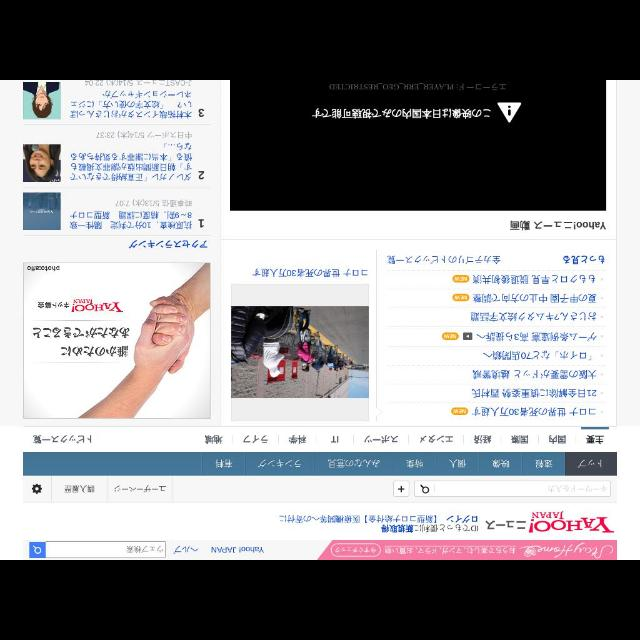button: (24, 474, 52, 502), (416, 482, 434, 496), (30, 542, 44, 556), (393, 482, 407, 496)
icon: (31, 482, 43, 496), (32, 544, 42, 554), (419, 484, 429, 494), (398, 485, 404, 493)
image: (230, 81, 604, 211), (22, 263, 210, 419), (232, 306, 368, 398), (528, 510, 612, 534), (518, 542, 616, 558), (22, 143, 59, 181), (24, 83, 61, 119), (25, 192, 59, 230)
input: (435, 480, 609, 496), (46, 542, 164, 558)
multitab: (21, 427, 616, 453), (24, 453, 616, 475)
text: (68, 128, 192, 182), (66, 82, 192, 118), (273, 512, 479, 532), (66, 198, 192, 230), (482, 347, 594, 363), (477, 328, 598, 342), (472, 404, 596, 416), (472, 368, 596, 380), (472, 274, 594, 286), (250, 266, 368, 278), (384, 252, 500, 264), (384, 545, 516, 555), (470, 310, 596, 320), (472, 388, 596, 398), (472, 294, 596, 304), (126, 238, 210, 250), (506, 220, 604, 230), (326, 457, 382, 468), (30, 434, 91, 444), (562, 252, 604, 266), (210, 545, 264, 555), (548, 485, 608, 493), (257, 458, 301, 468), (334, 544, 376, 554), (485, 520, 525, 530), (125, 544, 164, 554), (418, 433, 454, 443), (363, 434, 399, 444), (112, 486, 168, 492), (63, 484, 95, 494), (237, 434, 269, 444), (576, 457, 604, 467), (584, 434, 606, 446), (173, 544, 199, 554), (548, 432, 568, 444), (535, 458, 553, 470), (473, 432, 492, 443), (510, 435, 530, 445), (287, 434, 307, 444), (203, 434, 223, 444), (406, 458, 424, 469), (448, 459, 467, 469), (214, 459, 234, 468), (494, 458, 510, 468), (196, 170, 206, 180), (331, 436, 341, 444), (198, 108, 205, 118), (196, 220, 204, 228)
textbutton: (105, 476, 173, 502), (52, 477, 104, 501)
